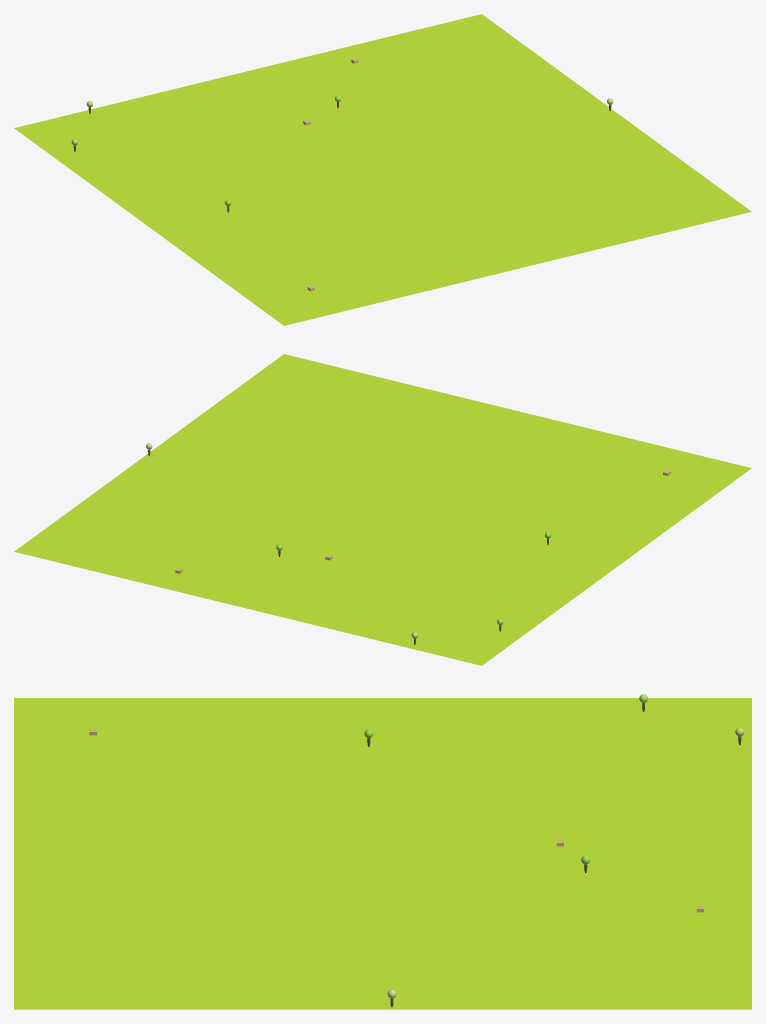
The model's file is farmland.glb.
3 renders of one model, top to bottom at view 1: azimuth 30°, elevation 25°; view 2: azimuth 150°, elevation 25°; view 3: azimuth 270°, elevation 25°, orthographic. The views are drawn at different scales.
Visible parts, largest first — view 1: Plane; view 2: Plane; view 3: Plane.
Boxes of the visible parts, bbox=[...] form: Plane: bbox=[14, 14, 751, 325]; Plane: bbox=[14, 354, 751, 665]; Plane: bbox=[14, 698, 751, 1009].
Size of the model in its own units: 100 by 2.6 by 100.
